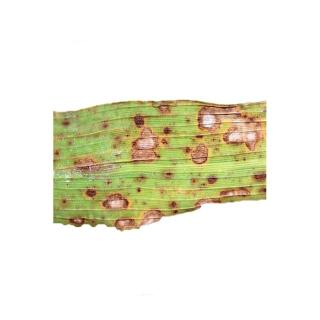Blast: (56, 186, 170, 223), (162, 175, 282, 207), (122, 106, 167, 166), (188, 103, 230, 137), (181, 143, 224, 176), (228, 126, 268, 160)
